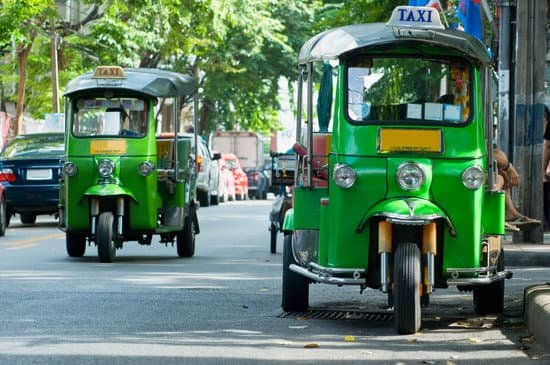threewheel: (282, 6, 511, 334), (60, 66, 200, 263)
